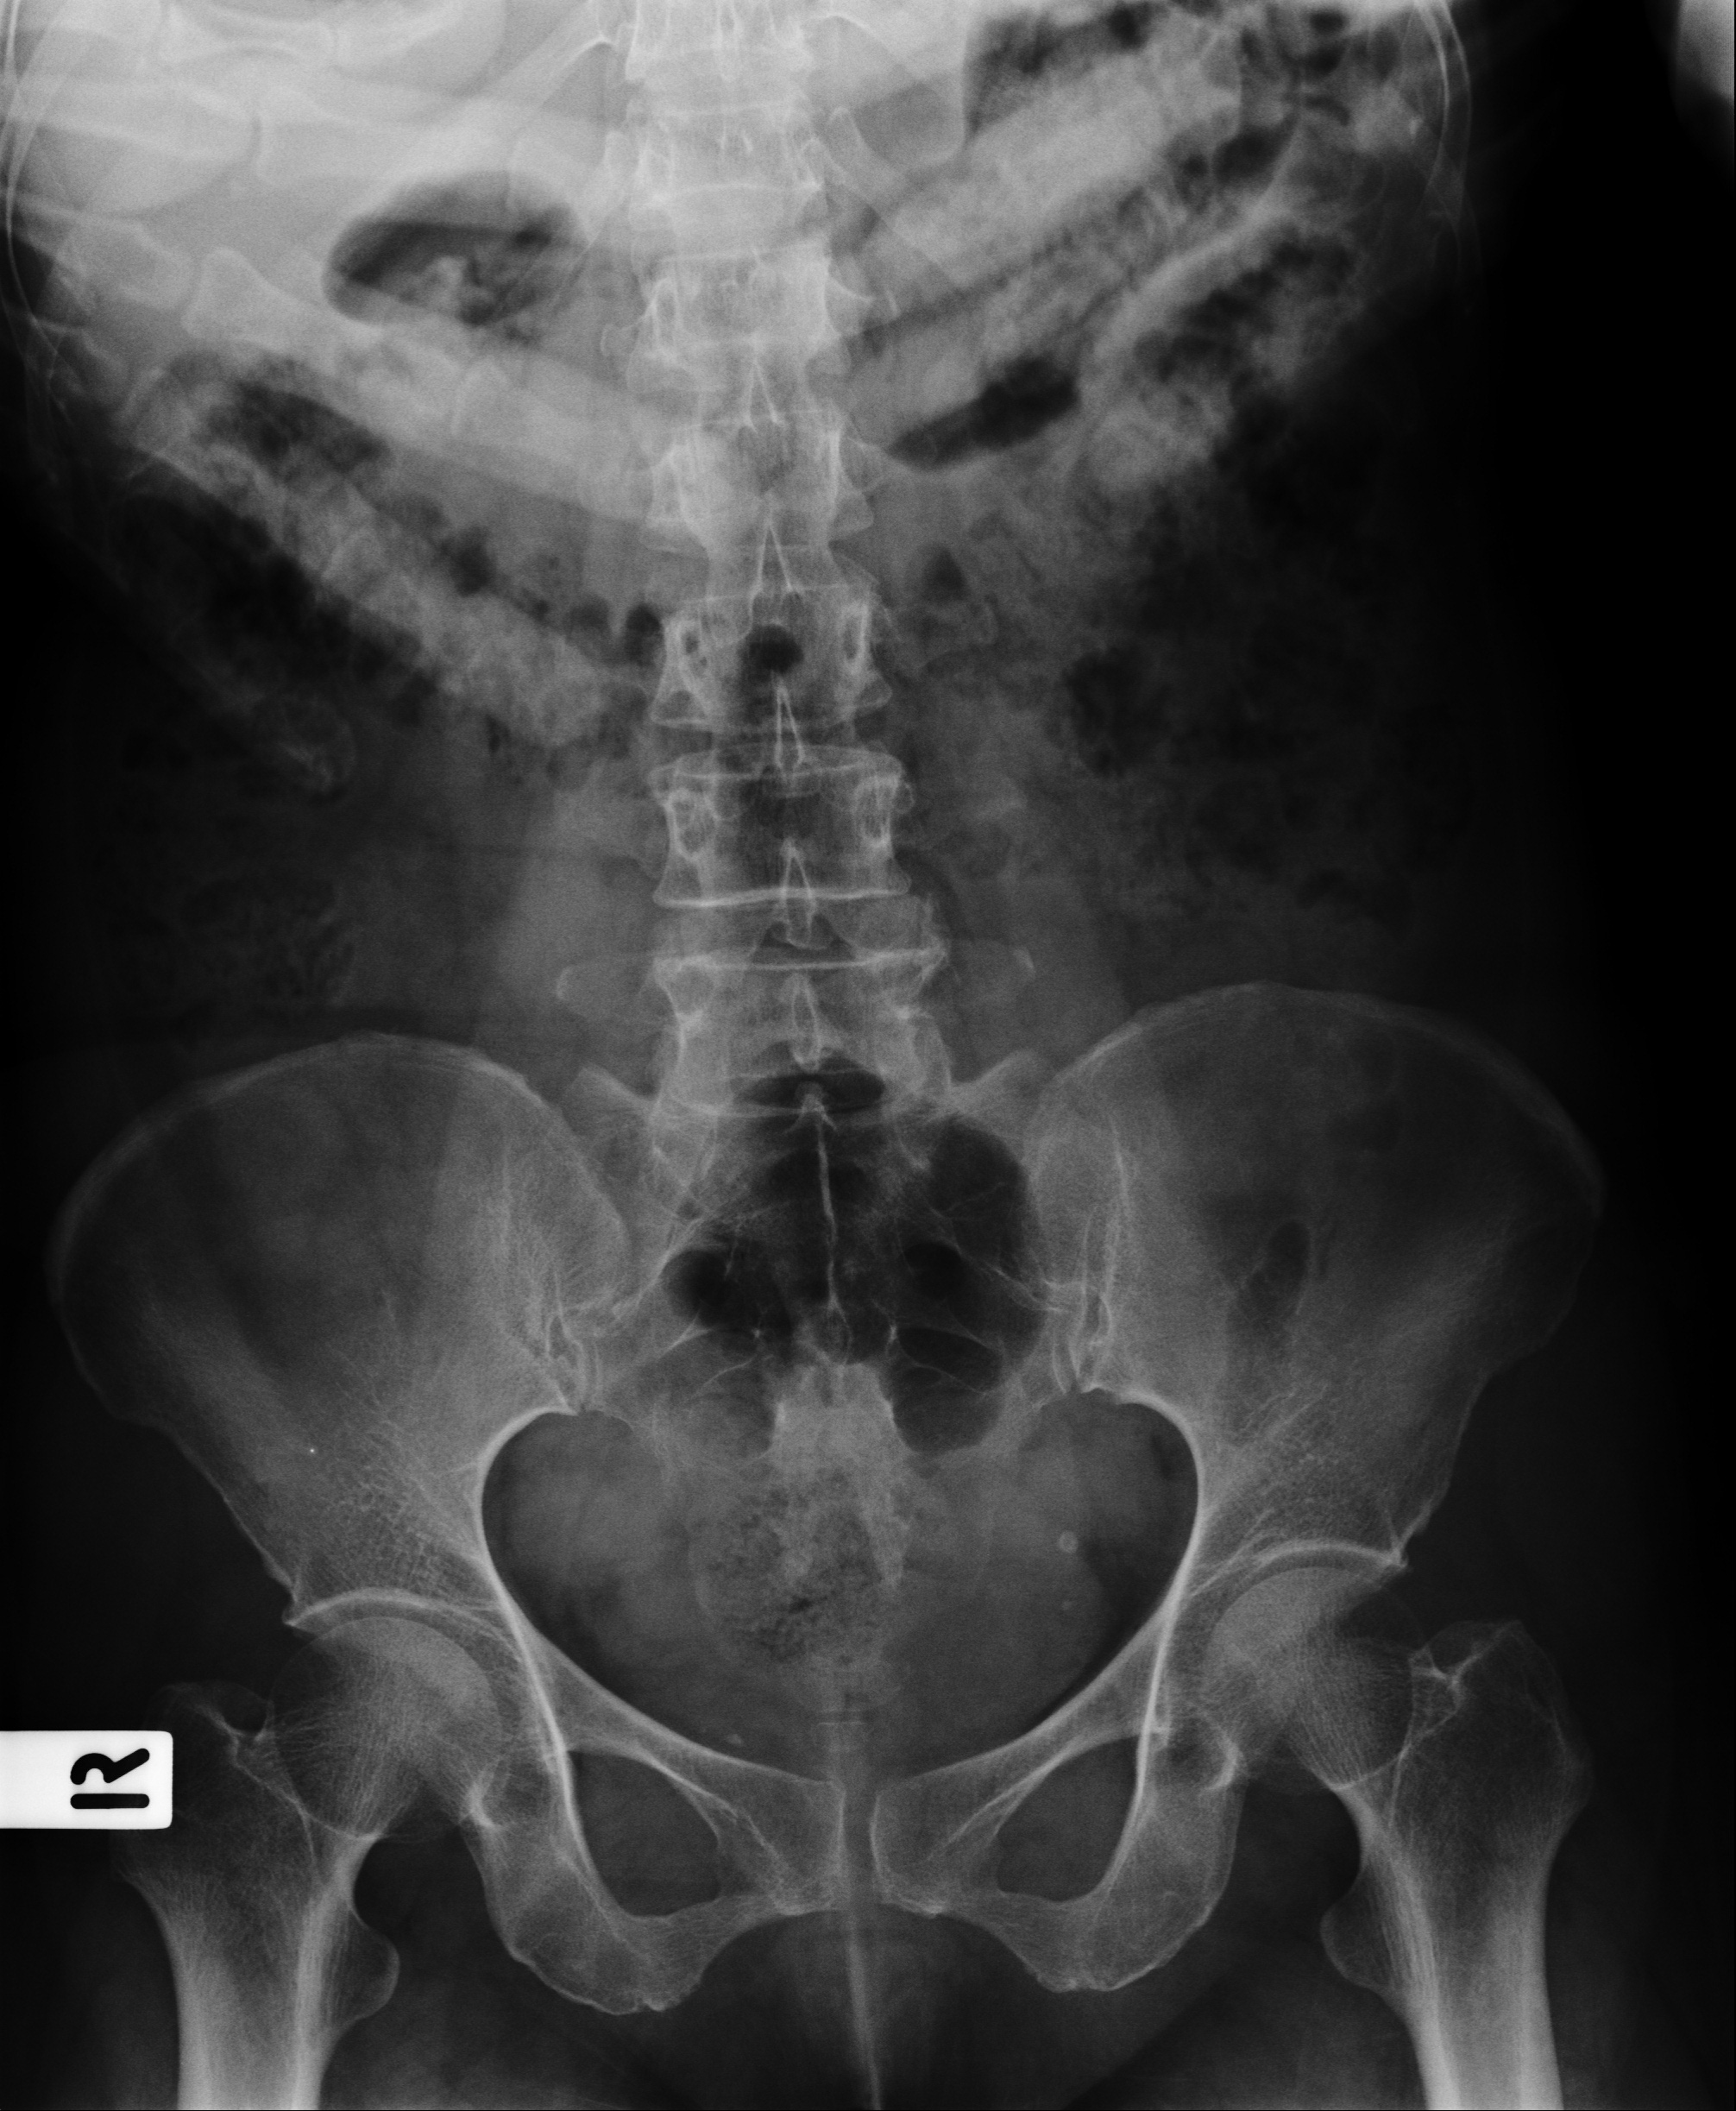lumbar scoliosis: (603, 19, 950, 1333)
